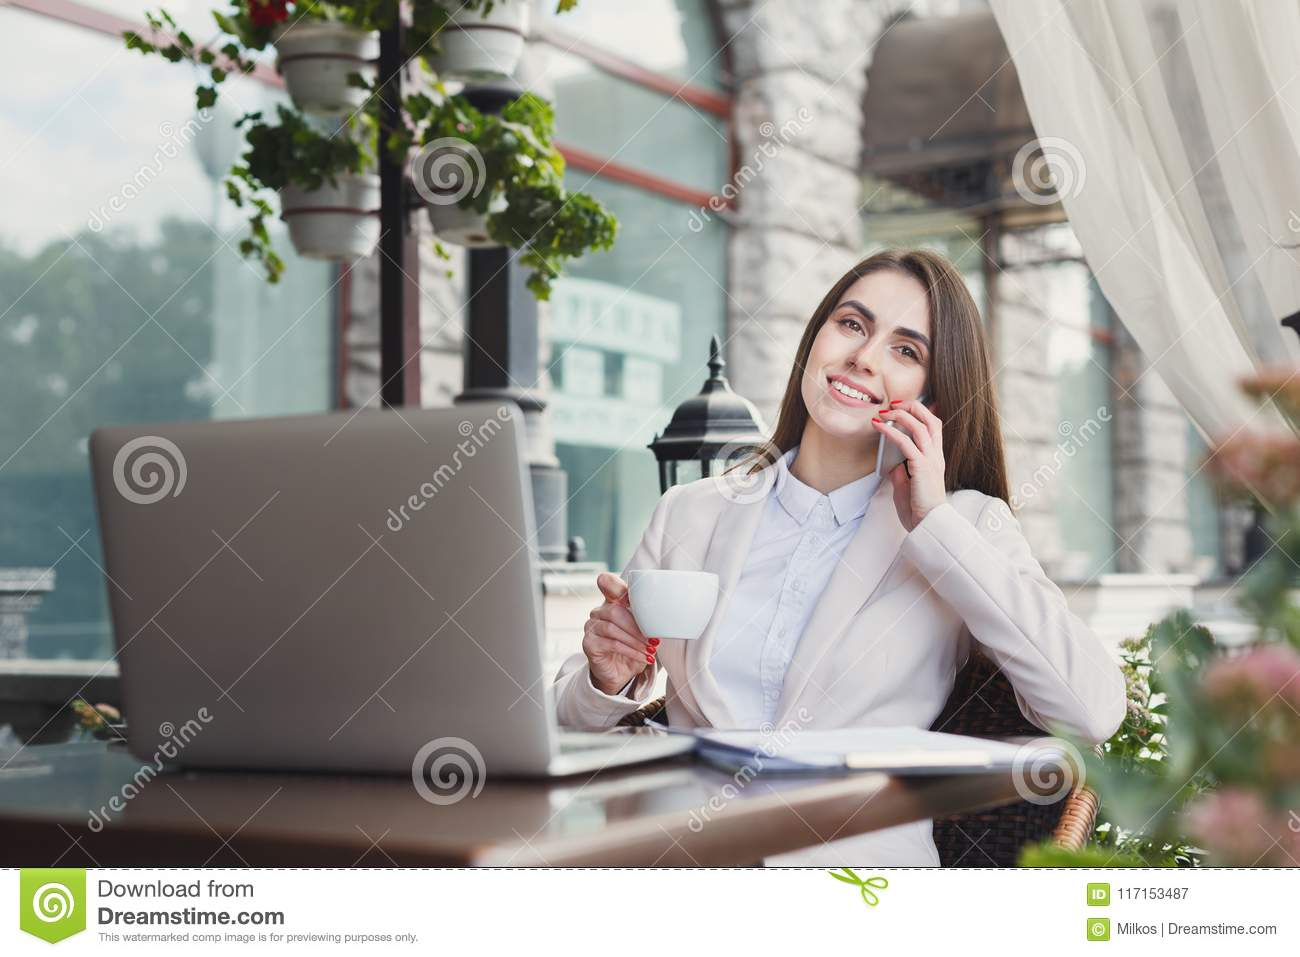phone: (873, 389, 939, 486)
talk: (801, 295, 956, 524)
